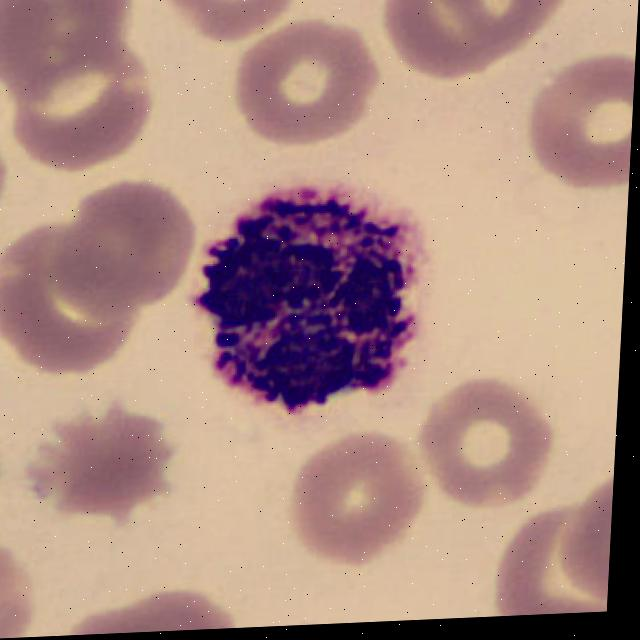basophil: (195, 167, 431, 425)
rbc: (0, 222, 163, 390), (227, 5, 399, 147), (46, 391, 178, 545), (425, 361, 562, 505), (59, 174, 190, 323), (295, 427, 414, 578), (525, 41, 636, 199), (20, 53, 151, 178), (491, 495, 613, 617), (0, 0, 136, 103), (385, 0, 522, 88), (58, 581, 254, 636), (450, 0, 588, 61), (558, 474, 614, 611), (171, 0, 296, 60), (0, 543, 44, 640), (0, 412, 10, 520)
